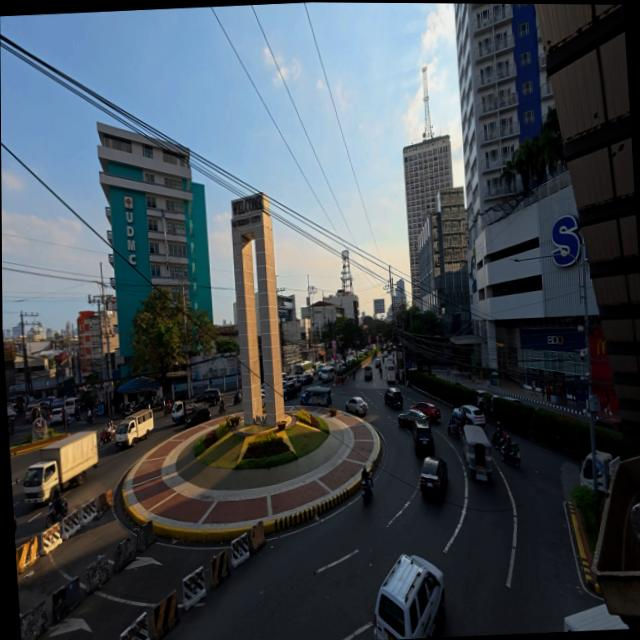car: (418, 457, 452, 504), (397, 408, 432, 433), (344, 395, 370, 417), (385, 387, 405, 409)
vans: (371, 549, 448, 640)
